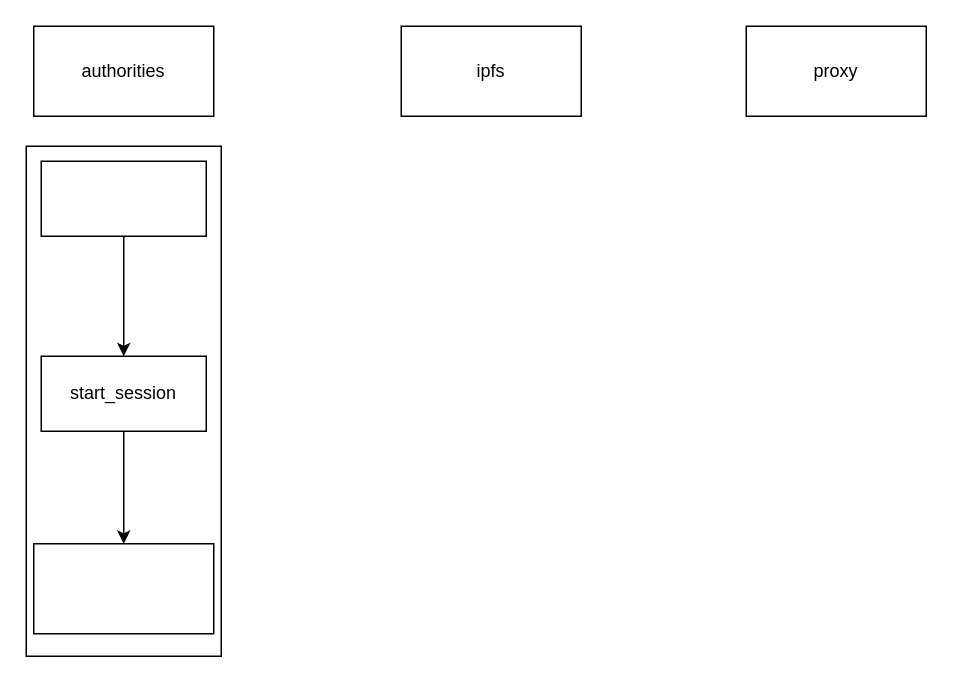
The diagram is 953 pixels wide and 683 high, and some of its shapes have lost their labels. Each missing label, with the centre of its shape:
new_session: the point at 123,198
votes recorded, ties broken: the point at 123,588
